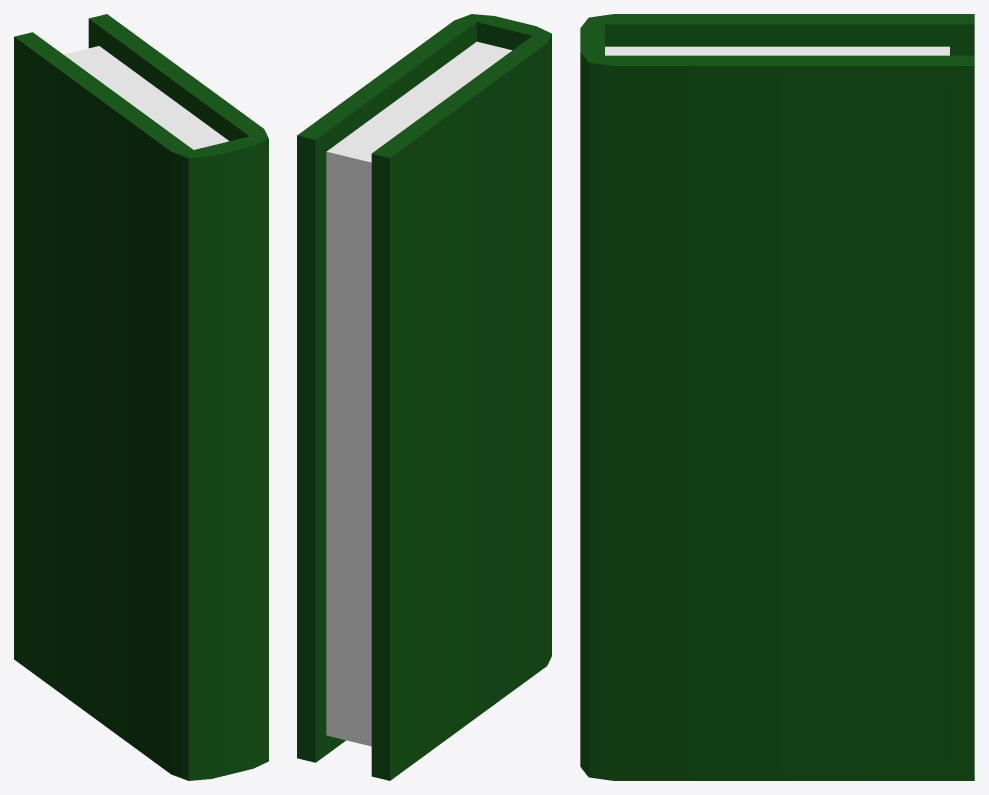
The model's file is BOOK - GREEN.fbx.
3 views of the same model, side by side, from view 1: azimuth 30°, elevation 25°; view 2: azimuth 150°, elevation 25°; view 3: azimuth 270°, elevation 25° (orthographic). The views are drawn at different scales.
Visible parts, largest first — view 1: Box001, Object; view 2: Box001, Object; view 3: Box001, Object.
Part boxes in pixels (left/top/right/bottom): Box001: left=14, top=14, right=268, bottom=780; Object: left=64, top=46, right=228, bottom=149; Box001: left=297, top=14, right=551, bottom=780; Object: left=326, top=41, right=511, bottom=746; Box001: left=580, top=14, right=974, bottom=780; Object: left=605, top=46, right=949, bottom=55.
Size of the model in its own units: 5 by 32 by 16.
